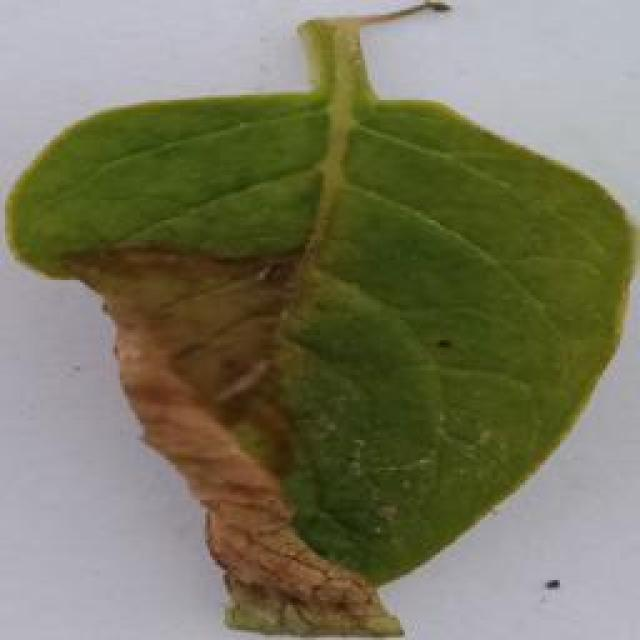Potato_Late_Blight: (4, 8, 625, 636)
